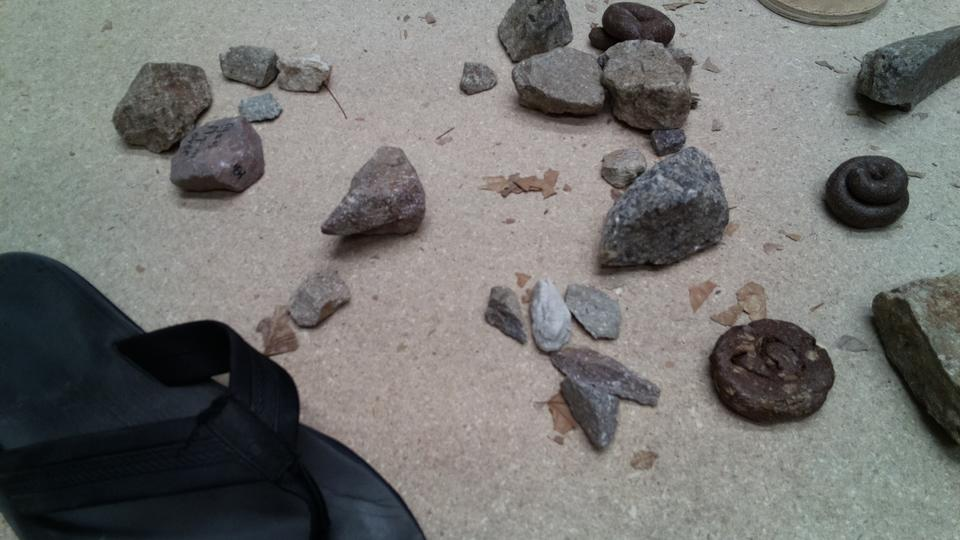poop: (706, 315, 837, 426), (821, 152, 910, 231), (583, 1, 681, 49)
